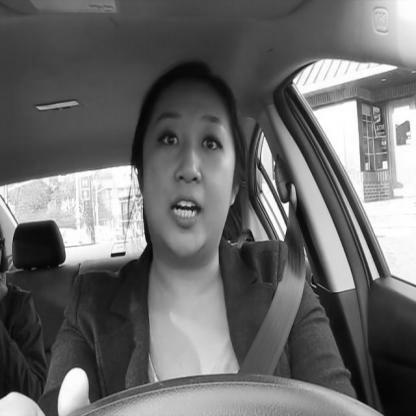seatbelt: (121, 39, 310, 383)
